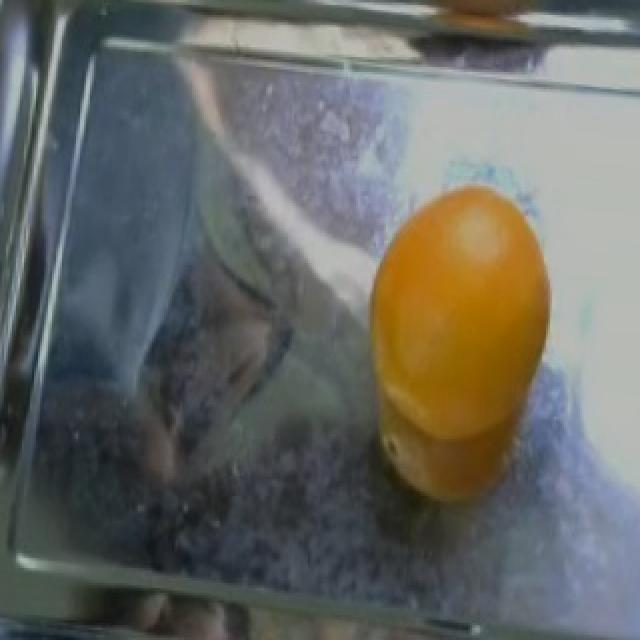Fruit: (352, 176, 564, 533)
